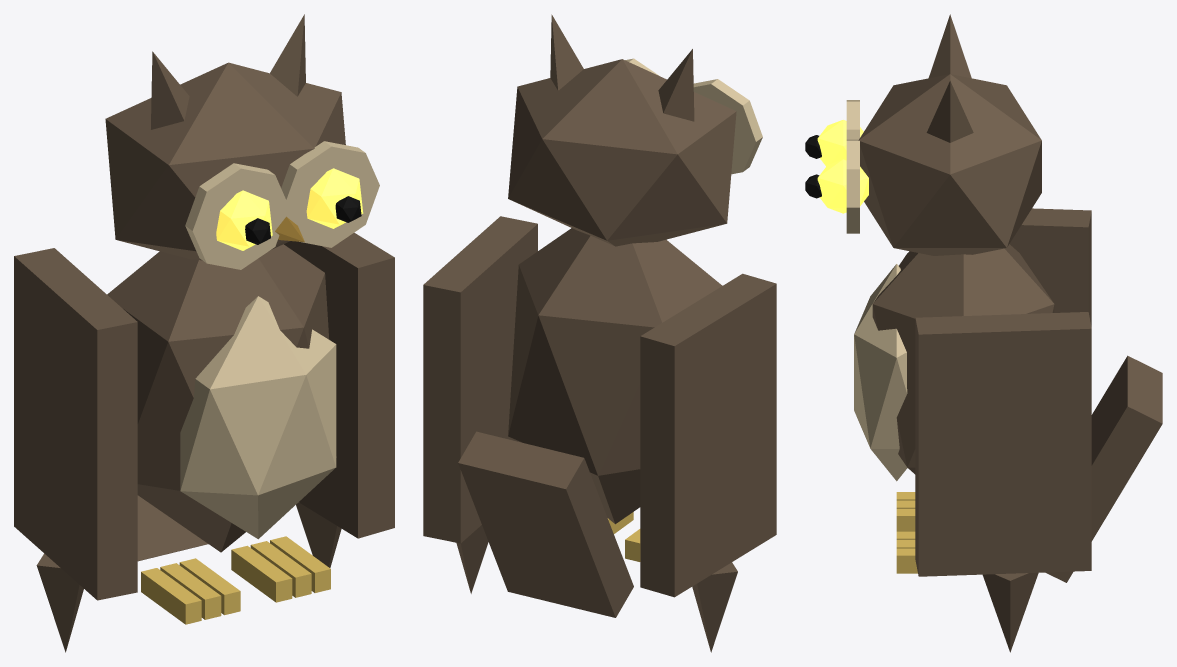
File: owl.glb
The picture shows the model from 3 angles, left to right: view 1: azimuth 30°, elevation 25°; view 2: azimuth 150°, elevation 25°; view 3: azimuth 270°, elevation 25°; orthographic projection. The views are drawn at different scales.
Visible parts, largest first — view 1: Feathers, Chest, Body.002, Skull, Feathers.001, FaceDisc_L, FaceDisc_R, Tail, Tip, Eye_L.002, Eye_R.002, Talon_R1 (+10 smaller); view 2: Feathers, Body.002, Skull, Feathers.001, Tail, FaceDisc_L, Tip, EarTuft_L, EarTuft_R, Tip.001; view 3: Feathers.001, Skull, Body.002, Tail, Chest, Feathers, Tip.001, EarTuft_R, Eye_R.002, EarTuft_L, FaceDisc_R, Eye_L.002 (+2 smaller).
Part boxes in pixels (x1,y1,x2,y2): Feathers: [14, 248, 137, 600]; Chest: [180, 296, 336, 539]; Body.002: [107, 244, 336, 552]; Skull: [105, 62, 345, 260]; Feathers.001: [284, 232, 394, 538]; FaceDisc_L: [185, 163, 288, 269]; FaceDisc_R: [281, 141, 379, 247]; Tail: [137, 495, 208, 561]; Tip: [36, 553, 83, 652]; Eye_L.002: [216, 190, 272, 250]; Eye_R.002: [306, 168, 363, 228]; Talon_R1: [231, 545, 292, 602]; Feathers: [640, 273, 776, 597]; Body.002: [508, 228, 722, 524]; Skull: [508, 59, 736, 246]; Feathers.001: [423, 216, 537, 543]; Tail: [458, 431, 633, 617]; FaceDisc_L: [693, 79, 762, 174]; Tip: [692, 562, 737, 652]; EarTuft_L: [658, 49, 694, 121]; EarTuft_R: [550, 14, 583, 90]; Tip.001: [456, 525, 488, 593]; Feathers.001: [915, 312, 1091, 576]; Skull: [858, 74, 1041, 255]; Body.002: [872, 244, 1054, 474]; Tail: [1045, 355, 1162, 582]; Chest: [854, 264, 907, 481]; Feathers: [1009, 208, 1091, 326]; Tip.001: [982, 572, 1038, 652]; EarTuft_R: [926, 81, 973, 142]; Eye_R.002: [817, 159, 868, 213]; EarTuft_L: [928, 14, 971, 78]; FaceDisc_R: [846, 139, 859, 233]; Eye_L.002: [817, 119, 863, 166].
Bounding box in the file's own units: 0.49 × 0.9073 × 0.5353.
